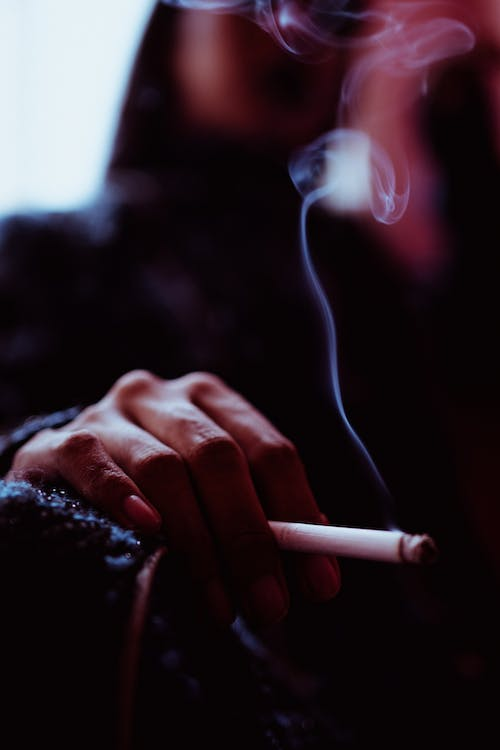cigarette: (266, 518, 438, 567)
